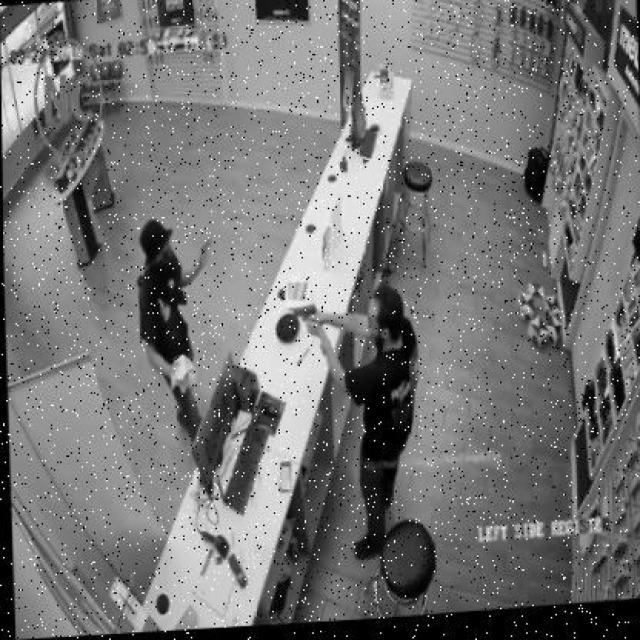weapon: (292, 302, 319, 322)
